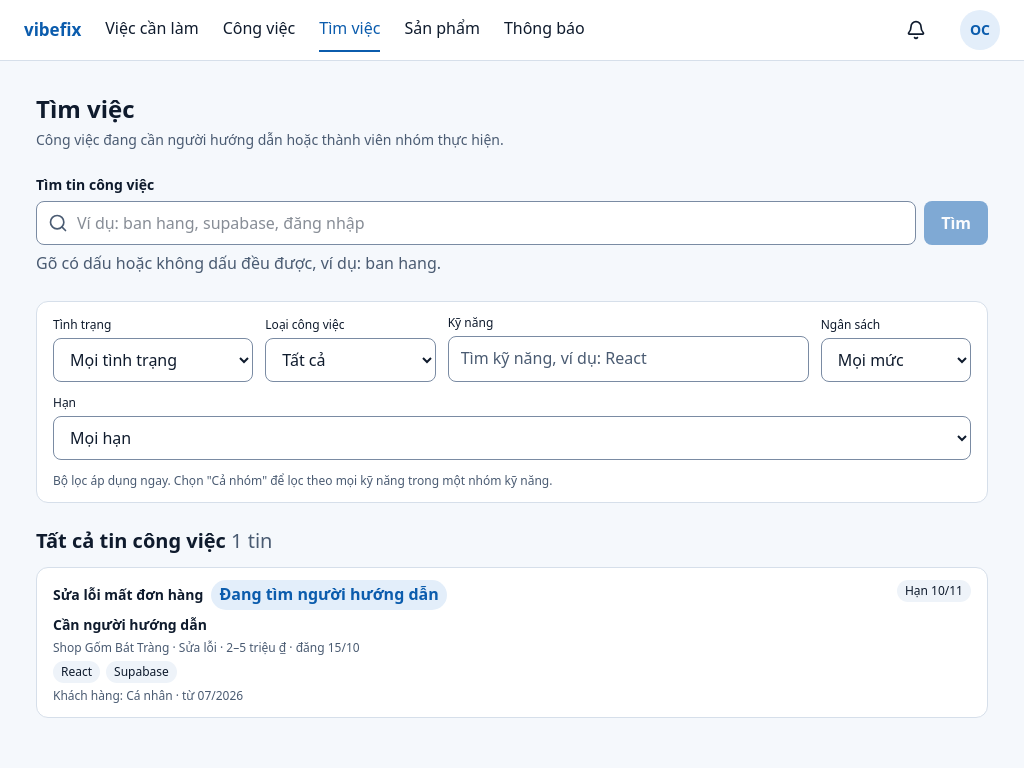
Test: MEN-2, searching by keyword (FR-12, UX-DR47) › keeps the earlier results and says how long to wait when searching too fast
The image size is (1024, 768).
Check: the link "Sửa lỗi mất đơn hàng" is shown, box [53, 585, 203, 605]
Step 1. Type "zalo" into the search field labelled "Tìm tin công việc" → (476, 223), box [36, 201, 916, 245]
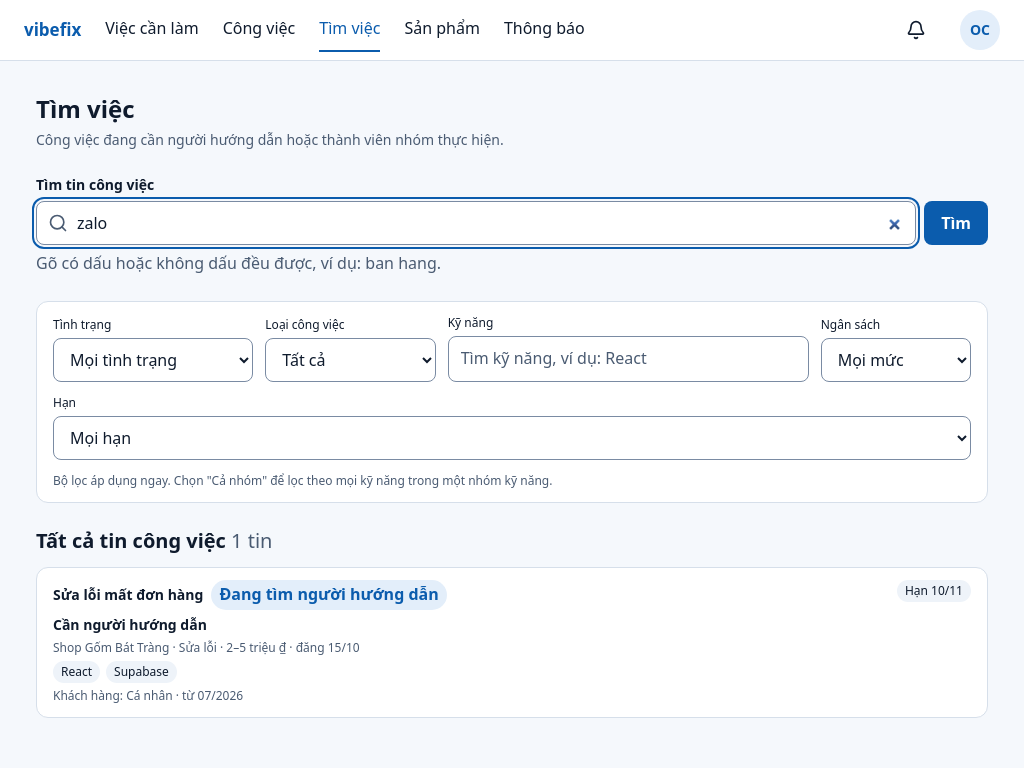
Step 2. Click the button "Tìm" → (956, 223), box [924, 201, 988, 245]
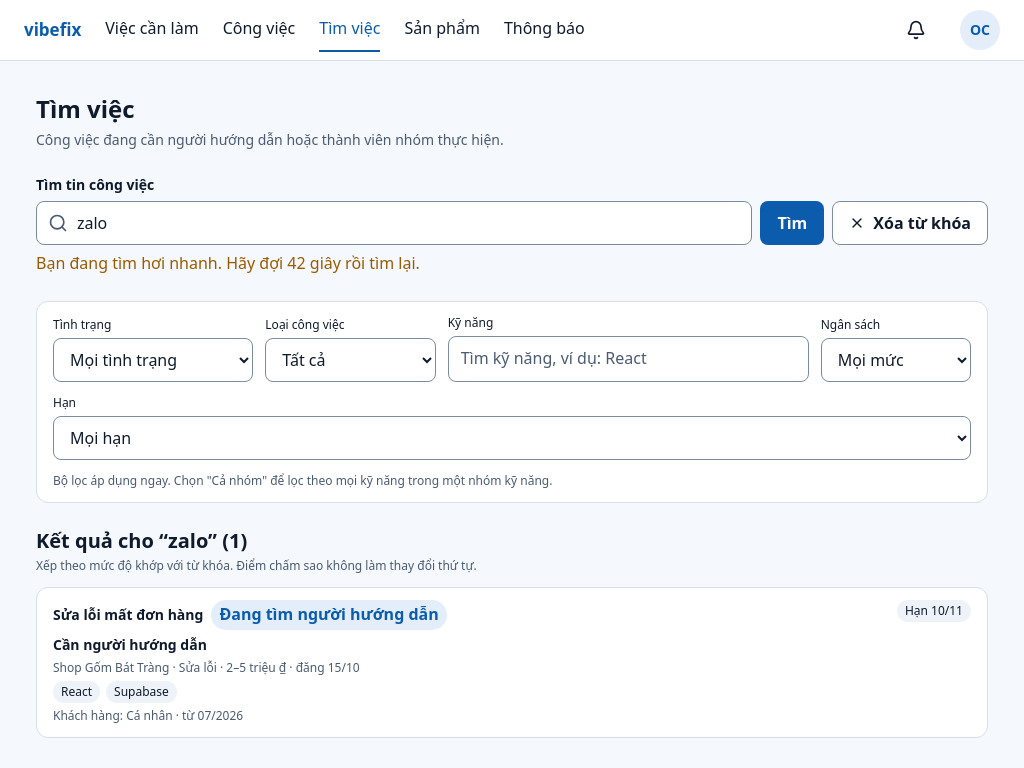
Check: the link "Sửa lỗi mất đơn hàng" is shown, box [53, 605, 203, 625]
Check: the text "Bạn đang tìm hơi nhanh. Hãy đợi 42 giây rồi tìm lại." is shown, box [36, 252, 420, 274]
Check: the text "Gõ có dấu hoặc không dấu đều được, ví dụ: ban hang." is gone
